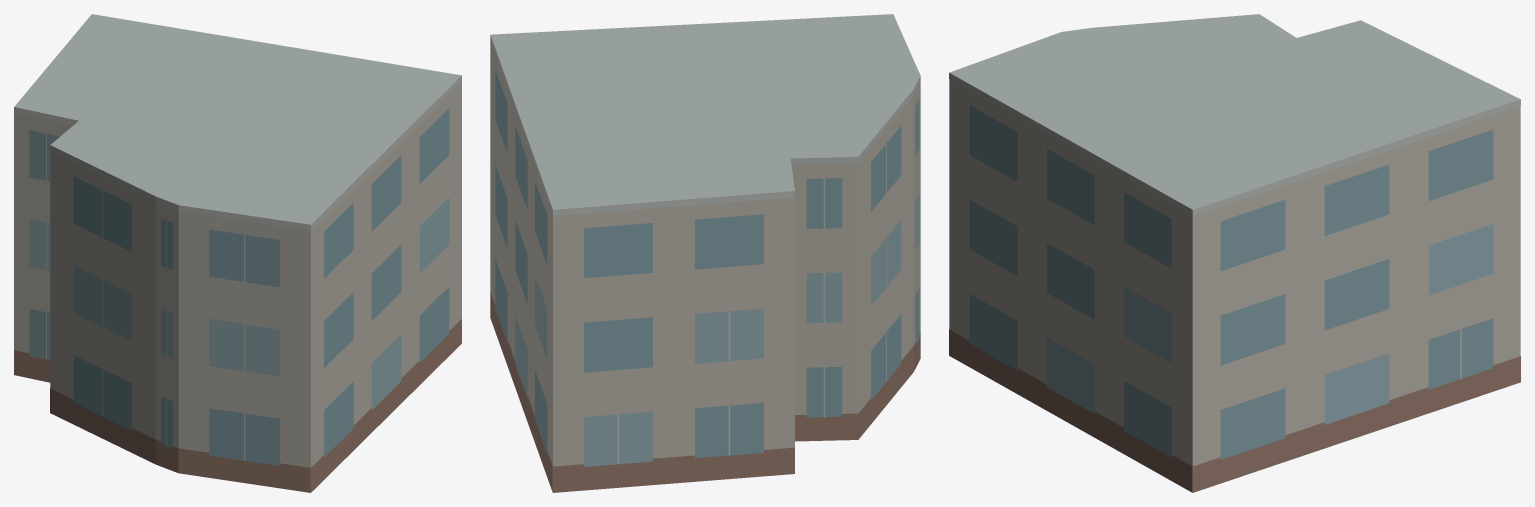
The model's file is survey-upis-32904211.glb.
3 renders of one model, left to right at view 1: azimuth 30°, elevation 25°; view 2: azimuth 150°, elevation 25°; view 3: azimuth 270°, elevation 25°, orthographic. The views are drawn at different scales.
Visible parts, largest first — view 1: survey-upis-32904211.tmp; view 2: survey-upis-32904211.tmp; view 3: survey-upis-32904211.tmp.
Boxes of the visible parts, <box> form: survey-upis-32904211.tmp: <box>14,14,461,492</box>; survey-upis-32904211.tmp: <box>490,14,920,492</box>; survey-upis-32904211.tmp: <box>949,14,1520,492</box>.
Bounding box in the file's own units: 15.89 × 10.7 × 19.59.
